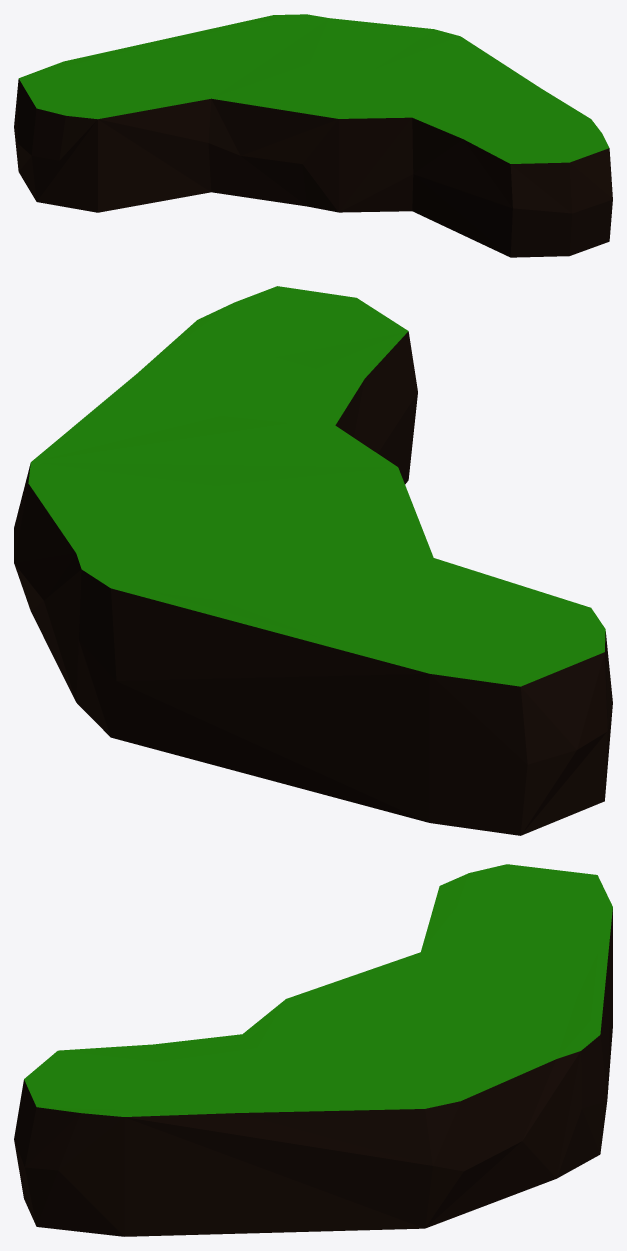
The model's file is SM_Flat_Rock_1_Fixed.FBX.
3 renders of one model, top to bottom at view 1: azimuth 30°, elevation 25°; view 2: azimuth 150°, elevation 25°; view 3: azimuth 270°, elevation 25°, orthographic. The views are drawn at different scales.
Visible parts, largest first — view 1: SM_Flat_Rock_1; view 2: SM_Flat_Rock_1; view 3: SM_Flat_Rock_1.
Part boxes in pixels (left/top/right/bottom): SM_Flat_Rock_1: left=14, top=14, right=612, bottom=257; SM_Flat_Rock_1: left=14, top=286, right=612, bottom=835; SM_Flat_Rock_1: left=14, top=864, right=612, bottom=1236.
Size of the model in its own units: 0.4326 by 0.0948 by 0.4294.
